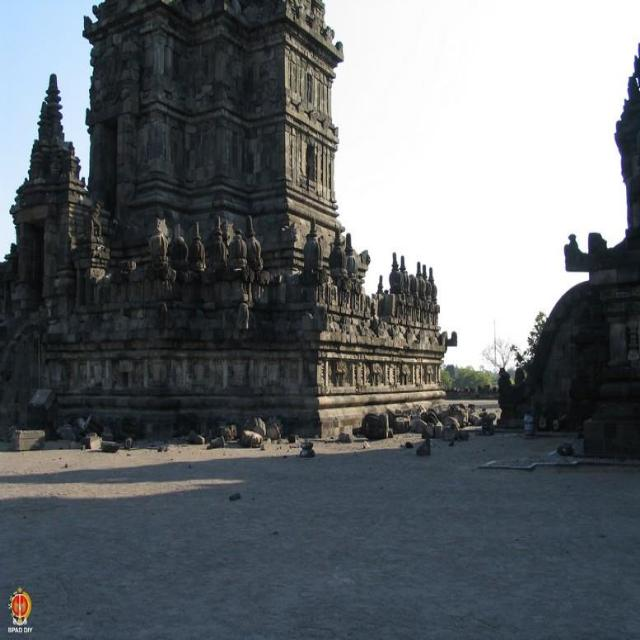damage: (358, 396, 508, 454), (7, 407, 131, 469), (177, 405, 307, 461)
